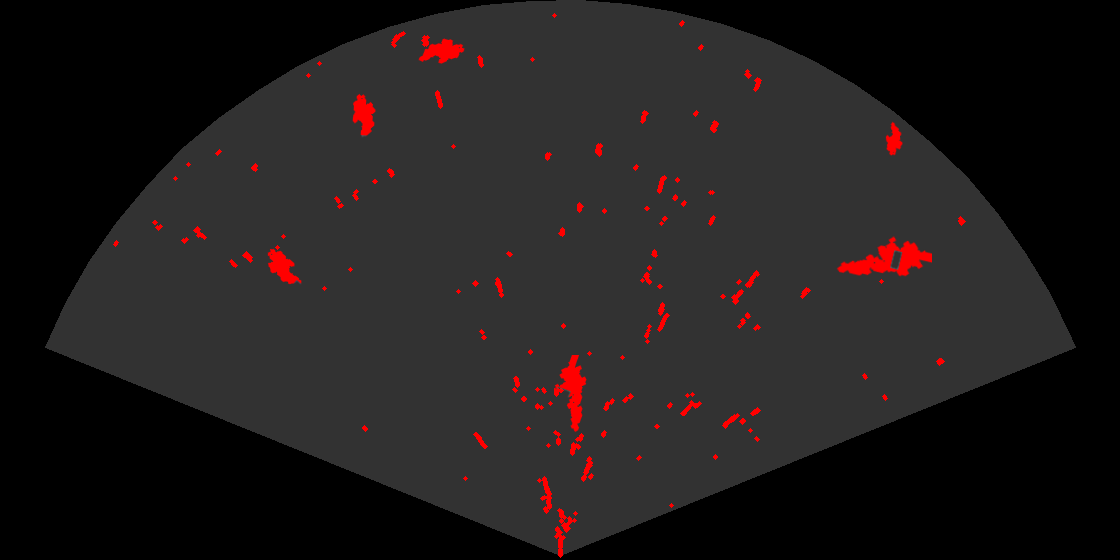AUV: (266, 247, 303, 286), (417, 37, 466, 65), (351, 92, 377, 138), (884, 120, 904, 157)
frogman: (835, 234, 932, 278), (553, 355, 588, 434)
